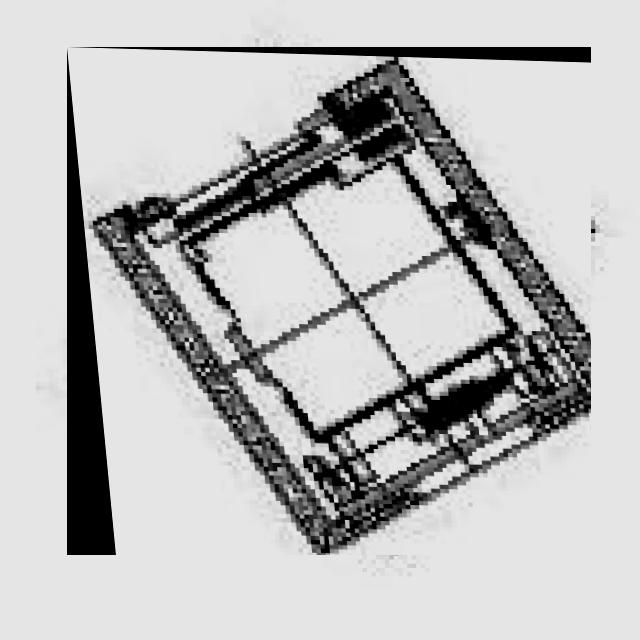lift: (67, 47, 591, 555)
